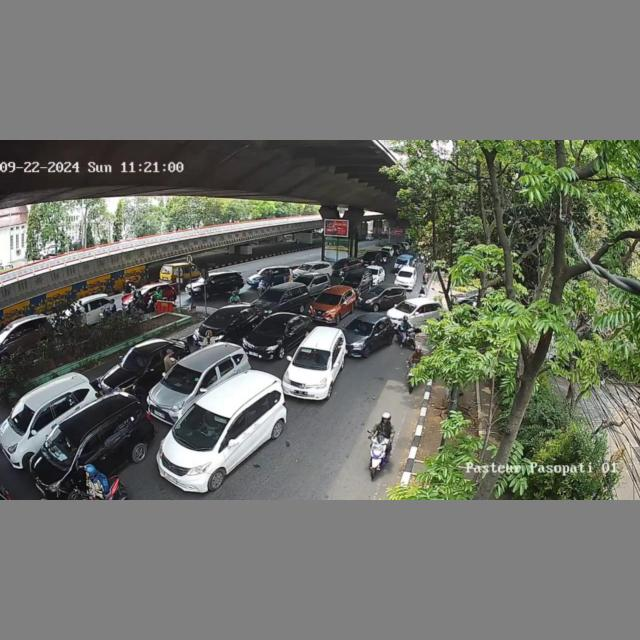windshield: (173, 405, 228, 448), (46, 428, 81, 460), (163, 364, 200, 392), (293, 345, 334, 368), (9, 401, 40, 431), (123, 349, 151, 373), (256, 318, 287, 337), (346, 318, 375, 336), (204, 313, 233, 328), (315, 291, 339, 306), (259, 289, 282, 302), (395, 299, 416, 312)
